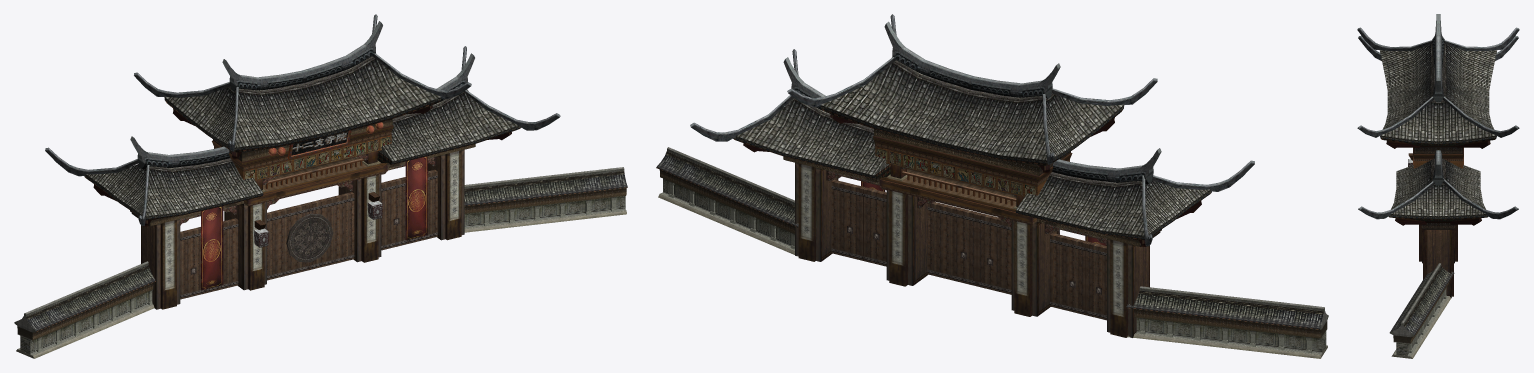
File: 1st_gate_001.fbx
The picture shows the model from 3 angles, left to right: view 1: azimuth 30°, elevation 25°; view 2: azimuth 150°, elevation 25°; view 3: azimuth 270°, elevation 25°; orthographic projection. The views are drawn at different scales.
Parts seen in each view (by area): view 1: Temple_Gate_001; view 2: Temple_Gate_001; view 3: Temple_Gate_001.
Part boxes in pixels (left/top/right/bottom): Temple_Gate_001: left=14, top=14, right=627, bottom=358; Temple_Gate_001: left=656, top=14, right=1328, bottom=358; Temple_Gate_001: left=1357, top=14, right=1519, bottom=358.
Size of the model in its own units: 37.31 by 13.29 by 10.33.
